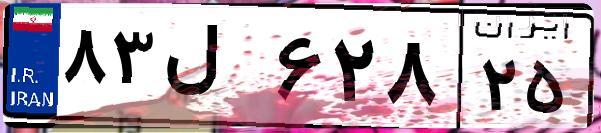2: (330, 28, 385, 110), (475, 38, 525, 113)
3: (110, 28, 158, 98)
5: (525, 38, 570, 115)
6: (270, 28, 330, 110)
8: (385, 28, 445, 110), (57, 26, 110, 100)
ل: (158, 20, 270, 120)
